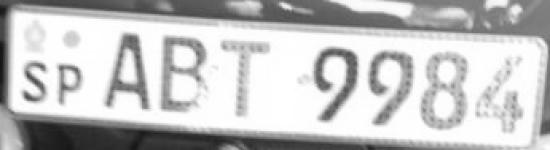4: (478, 49, 532, 142)
8: (417, 48, 477, 138)
9: (299, 42, 366, 132), (367, 46, 417, 134)
A: (99, 24, 157, 115)
B: (158, 26, 215, 119)
P: (54, 61, 89, 112)
S: (14, 57, 51, 106)
T: (218, 33, 283, 126)
